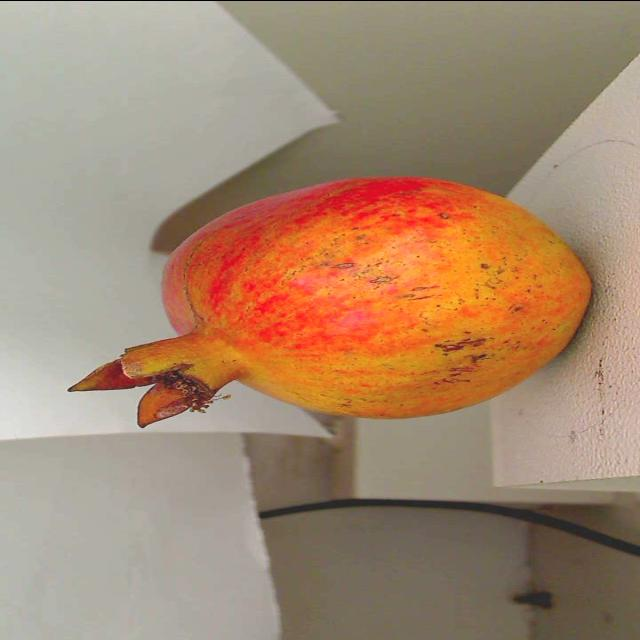pomegranate: (54, 161, 598, 437)
